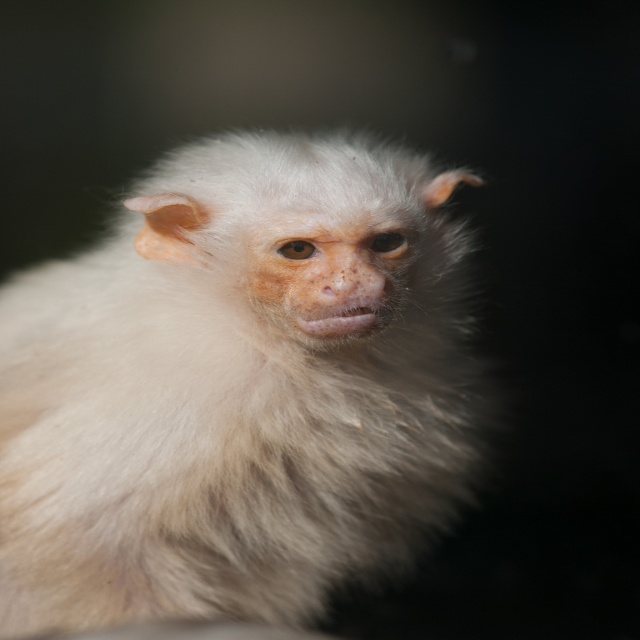Monkey: (0, 130, 499, 640)
